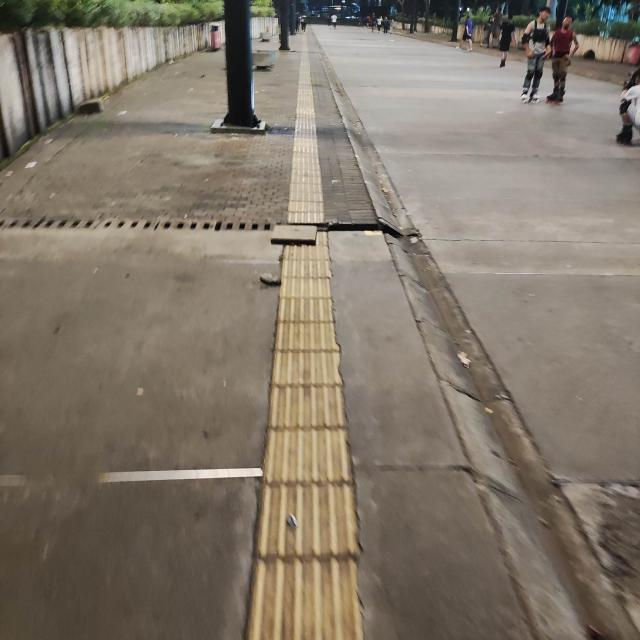lurus: (268, 116, 342, 640)
